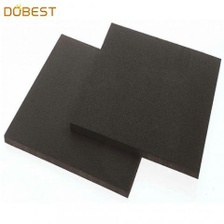foam_box: (0, 30, 178, 202), (64, 18, 224, 182)
